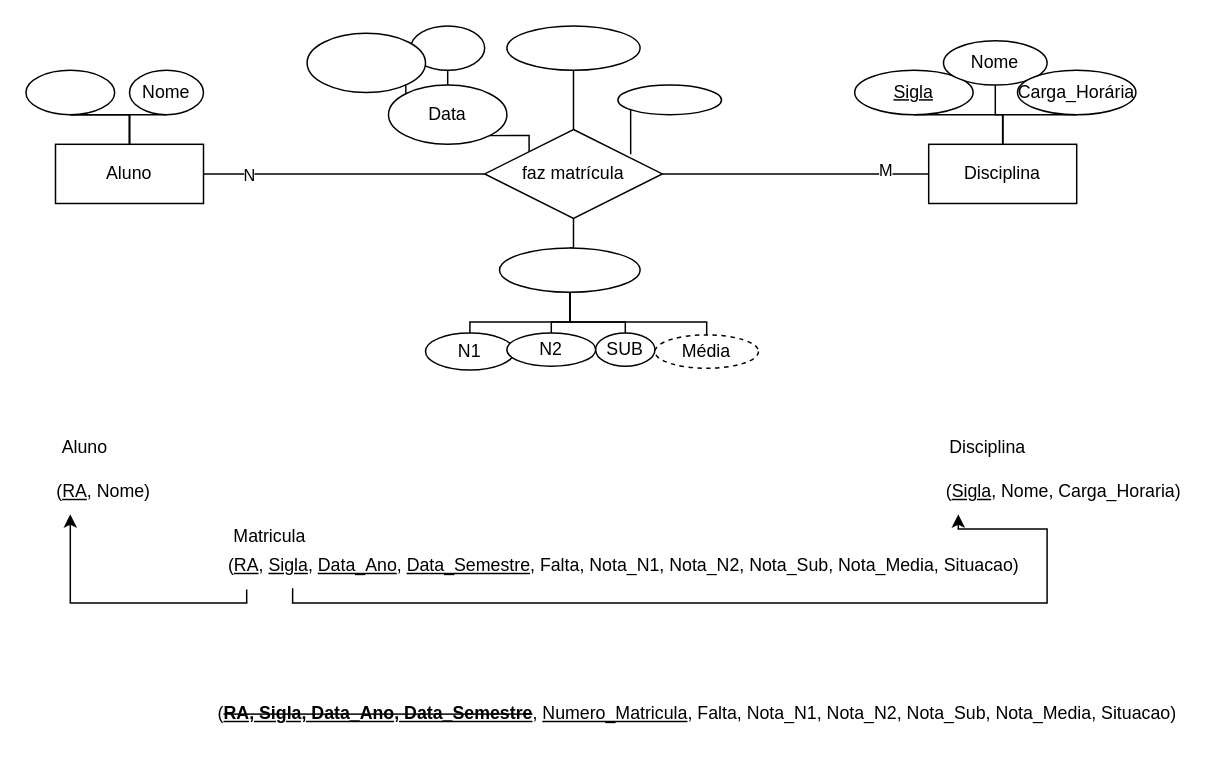
Some shapes in this 1224 by 762 pixel diagram are drawn without their labels. The shapes that lost their labels are listed below. From the top down, each one's box as (x1, y1, x2, y2) in pixels, then its label:
(306, 32, 426, 92): Semestre
(409, 24, 485, 70): Ano
(505, 24, 640, 70): Falta
(24, 69, 115, 115): RA
(616, 84, 722, 115): Situacao
(498, 246, 640, 292): Nota
